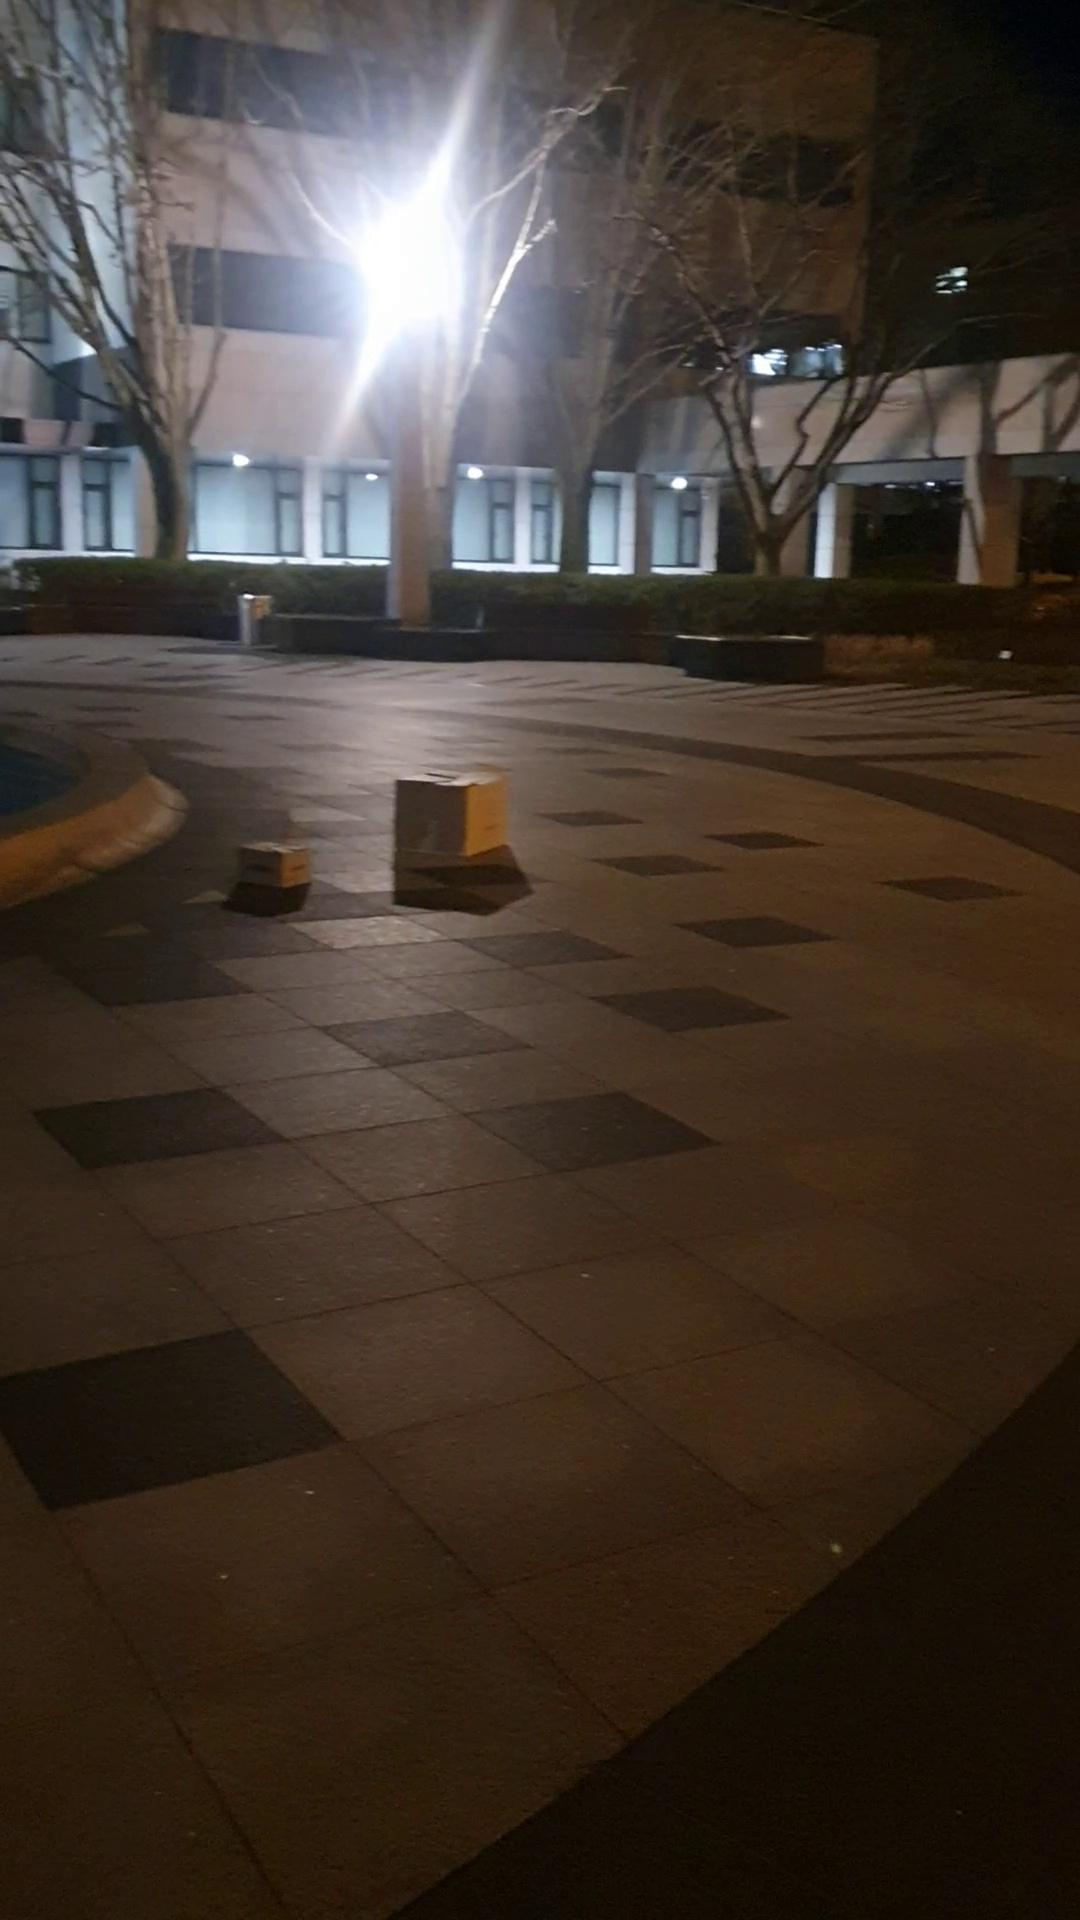Box: (392, 765, 518, 877), (228, 835, 320, 897)
